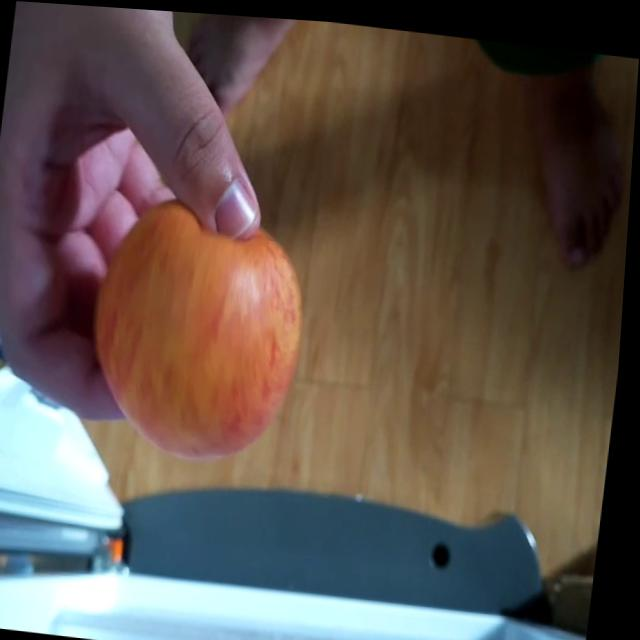apple: (80, 190, 313, 465)
